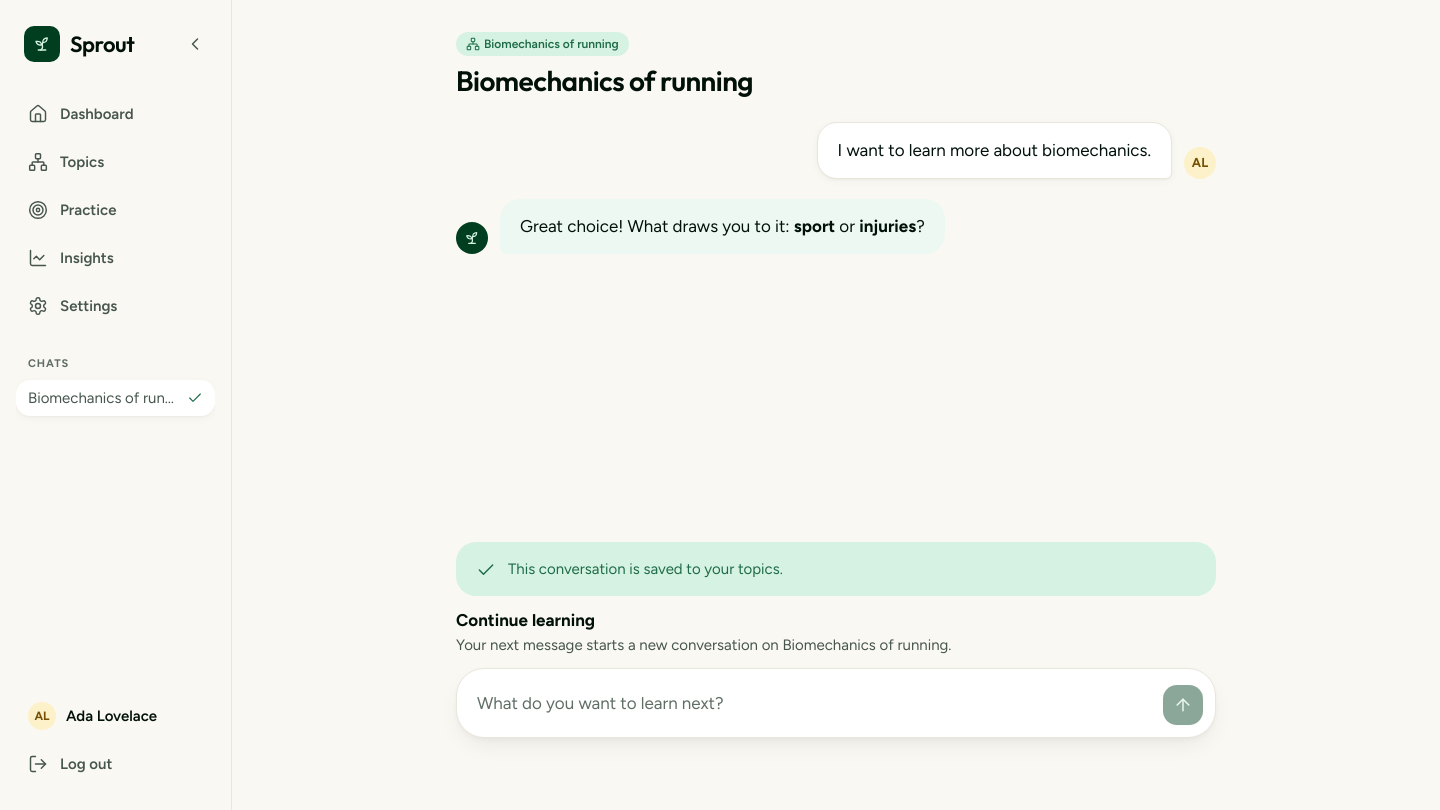
ConversationView › keeps your text when continuing fails
In the text box with test id "composer-input": (812, 703) [469,681,1155,725], type "Let’s add sprinting"
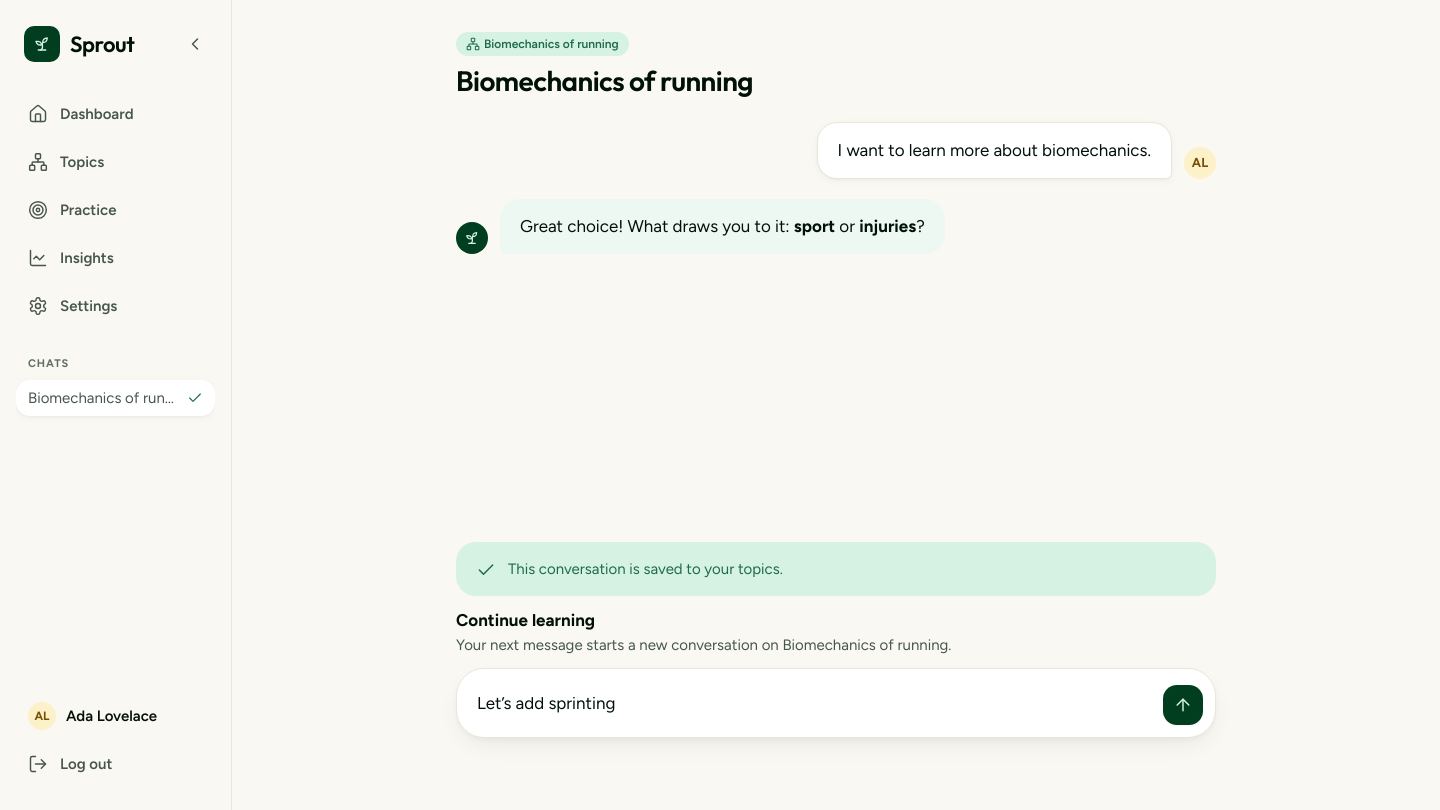
Click the button with test id "composer-send": (1183, 705) [1163,685,1203,725]
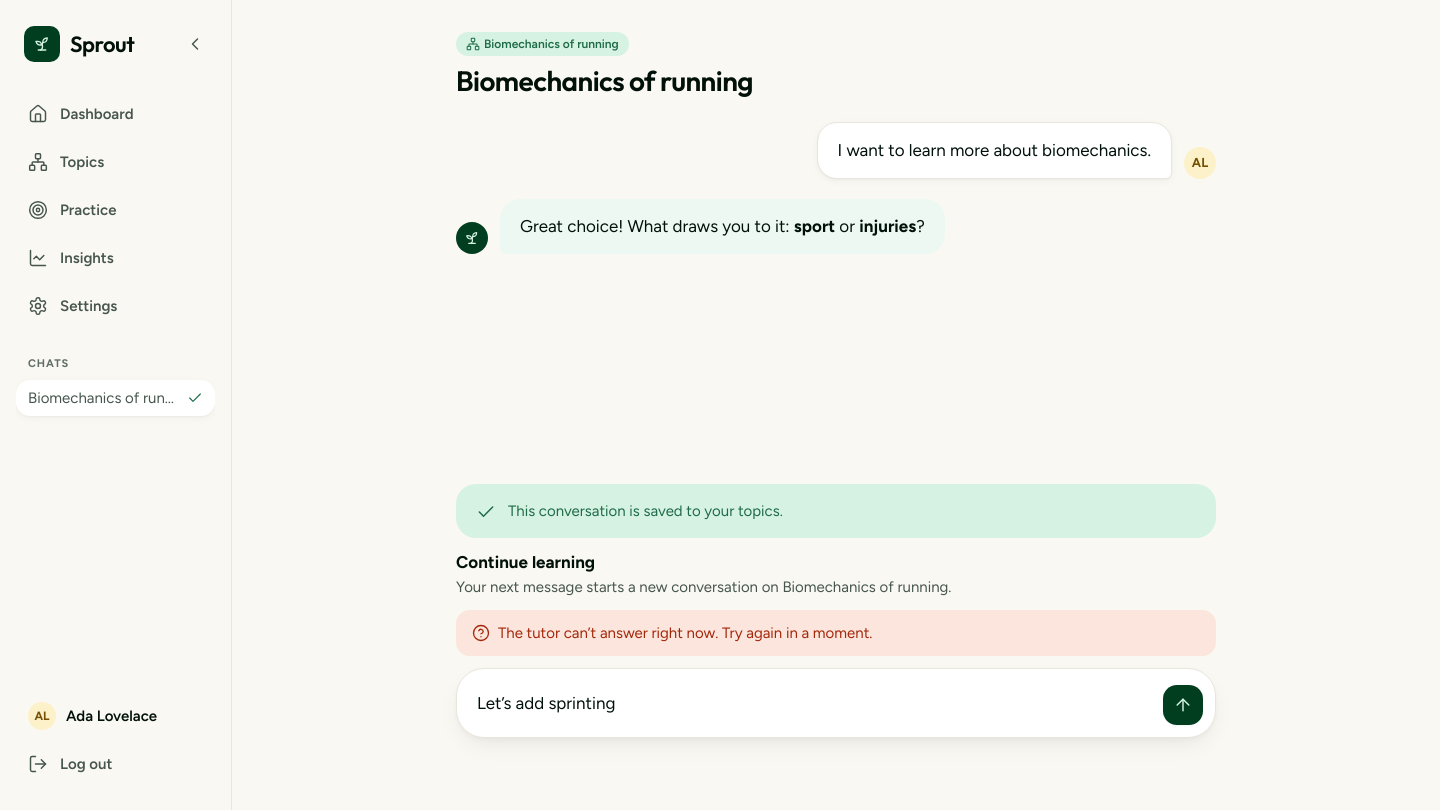
expect the message with test id "form-error" reads "The tutor can’t answer right now. Try again in a moment.": met, box [498,624,872,642]
